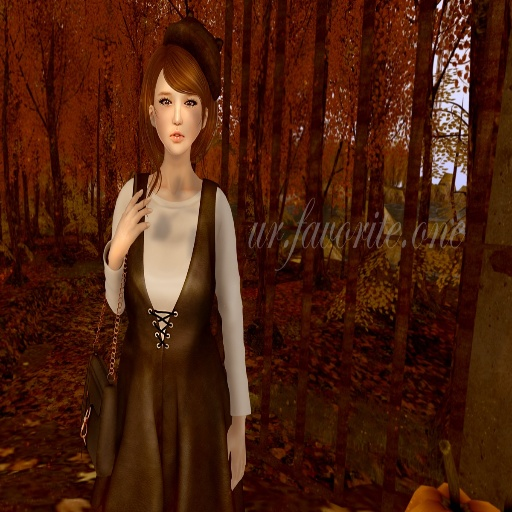hand: (108, 192, 148, 256), (225, 422, 247, 490)
